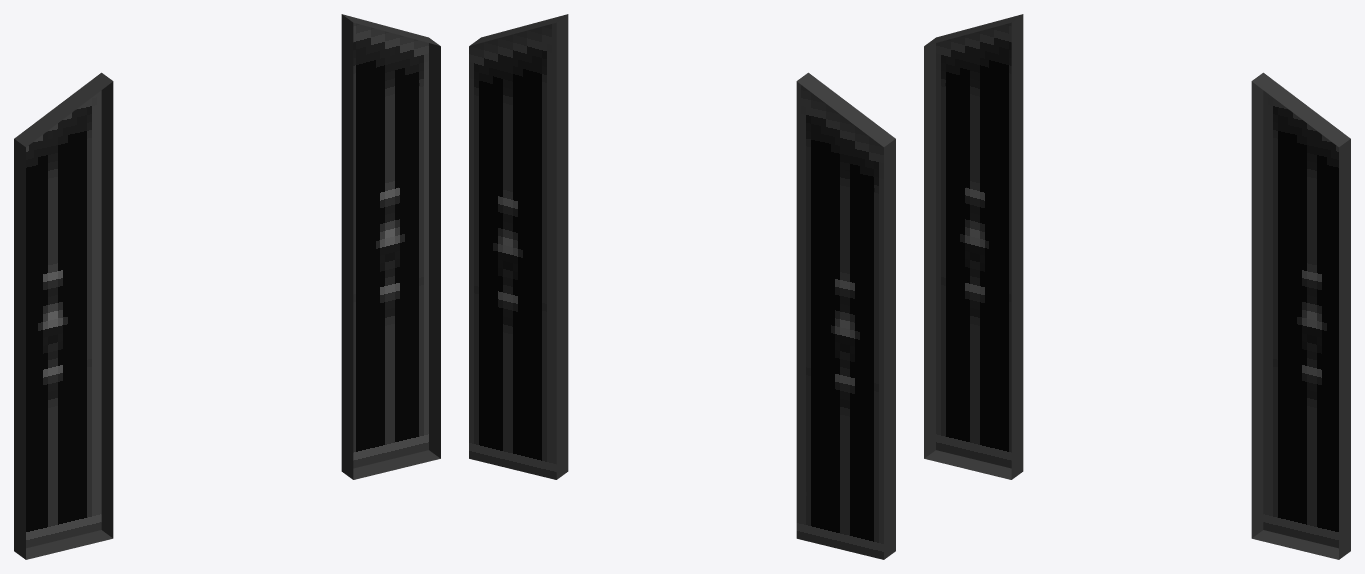
The picture shows the model from 3 angles, left to right: view 1: azimuth 30°, elevation 25°; view 2: azimuth 150°, elevation 25°; view 3: azimuth 330°, elevation 25°; orthographic projection.
Visible parts, largest first — view 1: prim085-gatesides; view 2: prim085-gatesides; view 3: prim085-gatesides.
Boxes of the visible parts, left/top/right/bottom form: prim085-gatesides: left=14, top=14, right=440, bottom=559; prim085-gatesides: left=469, top=14, right=895, bottom=559; prim085-gatesides: left=924, top=14, right=1350, bottom=559.
Size of the model in its own units: 242 by 255 by 12.
Materials: 1 (1 with a texture image).
